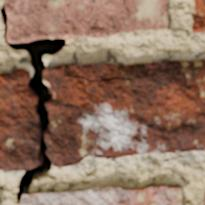brick: (5, 0, 167, 41), (20, 186, 181, 204), (193, 0, 204, 32)
broken_brick: (44, 59, 204, 167), (0, 68, 38, 171)
crack: (0, 2, 66, 202), (106, 155, 116, 159)
